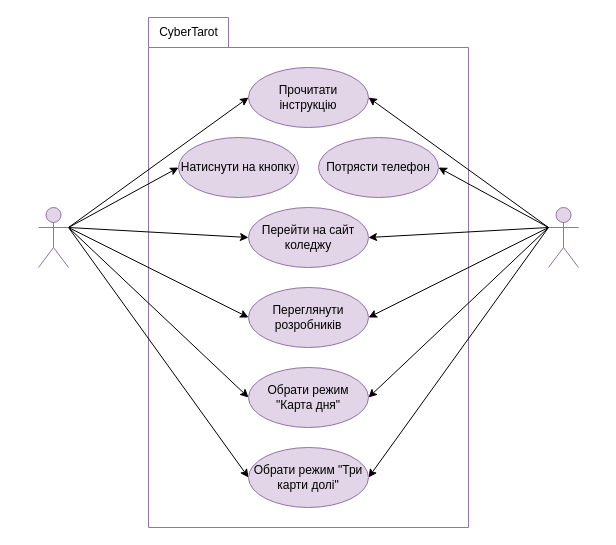
This 616x545 diagram has some shape labels left out. The centre of each missing label's shape, as x and y in pixels:
Користувач з ПК: the point at 53,237
Користувач з телефону: the point at 563,237
